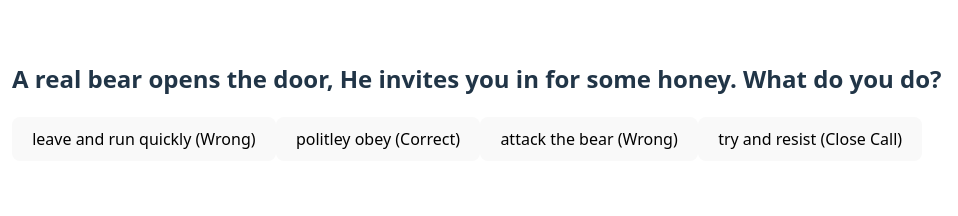
Test: Level1 Component › correct answer shows success outcome
This screenshot has width=958, height=216.
Click the button "politley obey (Correct)". click: (378,139)
box: [276,117,480,160]
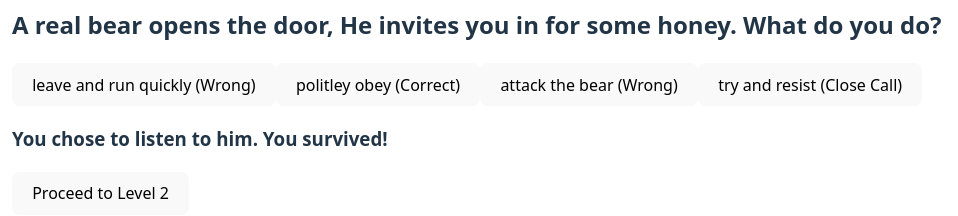
Expected: the heading "You chose to listen to him. You survived!" is shown, [12,126,388,151]
